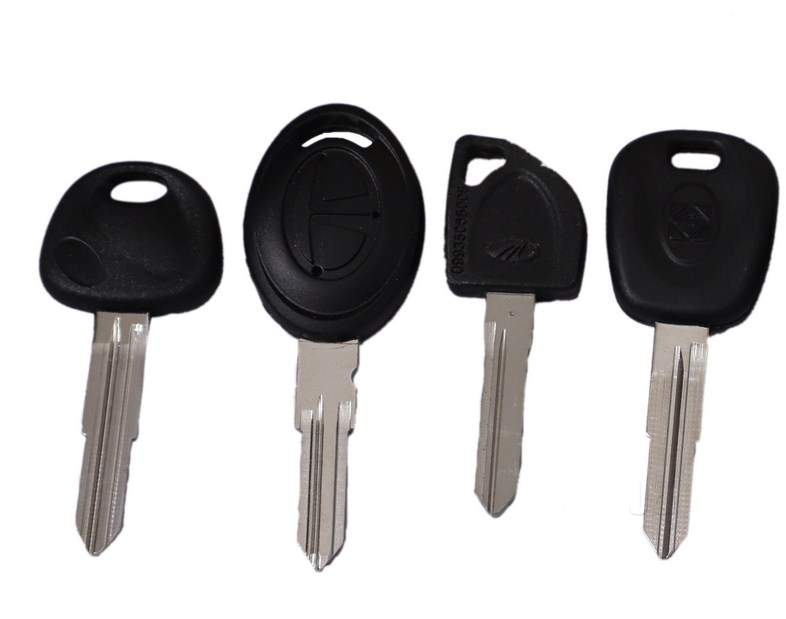key: (239, 96, 429, 576), (28, 151, 219, 569), (605, 120, 780, 561), (446, 122, 584, 529)
